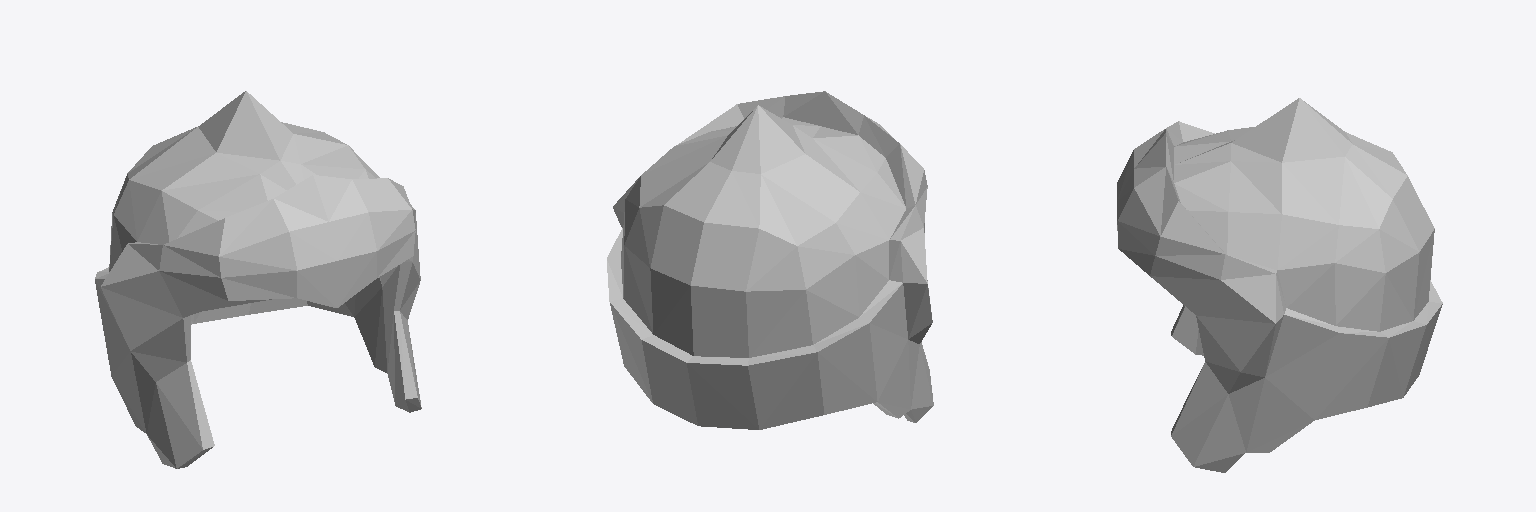
Rendered from Helmet.obj.
3 renders of one model, left to right at view 1: azimuth 30°, elevation 25°; view 2: azimuth 150°, elevation 25°; view 3: azimuth 270°, elevation 25°, orthographic.
Visible parts, largest first — view 1: Helmet; view 2: Helmet; view 3: Helmet.
Part boxes in pixels (bbox=[...]): Helmet: bbox=[95, 91, 421, 468]; Helmet: bbox=[607, 91, 933, 429]; Helmet: bbox=[1117, 98, 1442, 472].
Bounding box in the file's own units: 1.04 × 0.9971 × 0.9297.